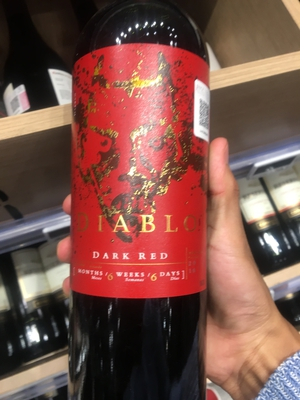diablo dark red: (63, 13, 228, 400)
